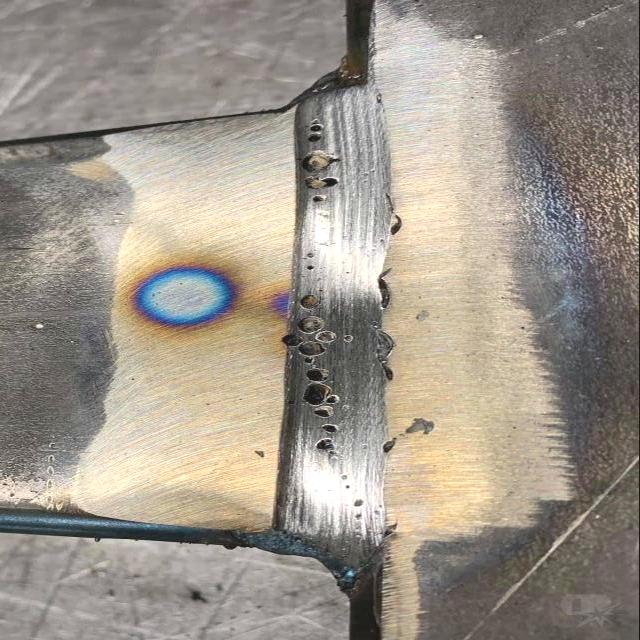defect: (279, 313, 357, 457), (299, 149, 346, 208), (302, 118, 332, 145), (297, 289, 324, 311), (349, 497, 369, 525), (339, 472, 353, 491), (301, 264, 318, 272), (307, 251, 316, 260)
